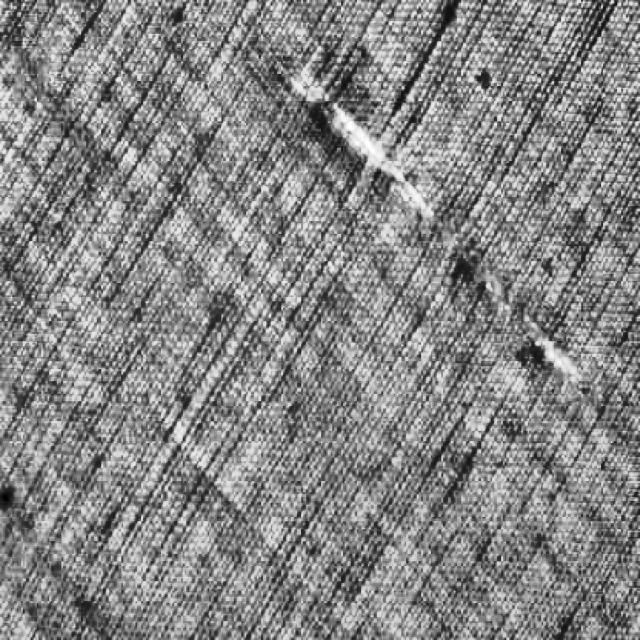thread_error: (282, 46, 596, 402)
